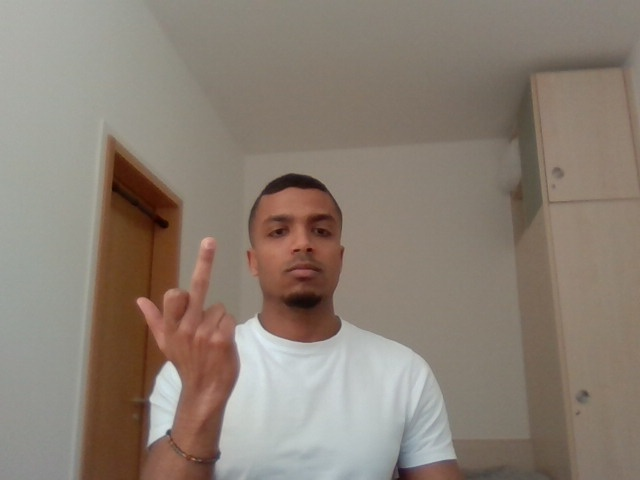fuckyou: (130, 222, 248, 420)
